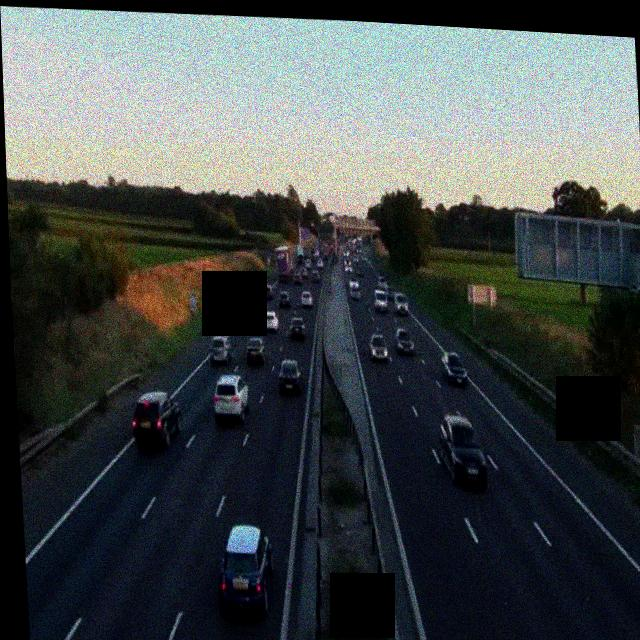car: (215, 522, 275, 616), (438, 413, 488, 488), (130, 388, 183, 448), (209, 371, 250, 423), (439, 349, 468, 385), (276, 358, 302, 393), (210, 336, 232, 365), (245, 336, 265, 365), (369, 332, 388, 361), (395, 327, 414, 354), (288, 313, 306, 340), (238, 303, 255, 326), (373, 287, 388, 313), (393, 292, 408, 317), (262, 309, 278, 331), (348, 282, 361, 301), (301, 289, 314, 306), (278, 290, 290, 307), (261, 283, 273, 300), (376, 276, 388, 292), (293, 272, 304, 286), (315, 256, 323, 270), (311, 270, 319, 282)
truck: (274, 242, 294, 281)
